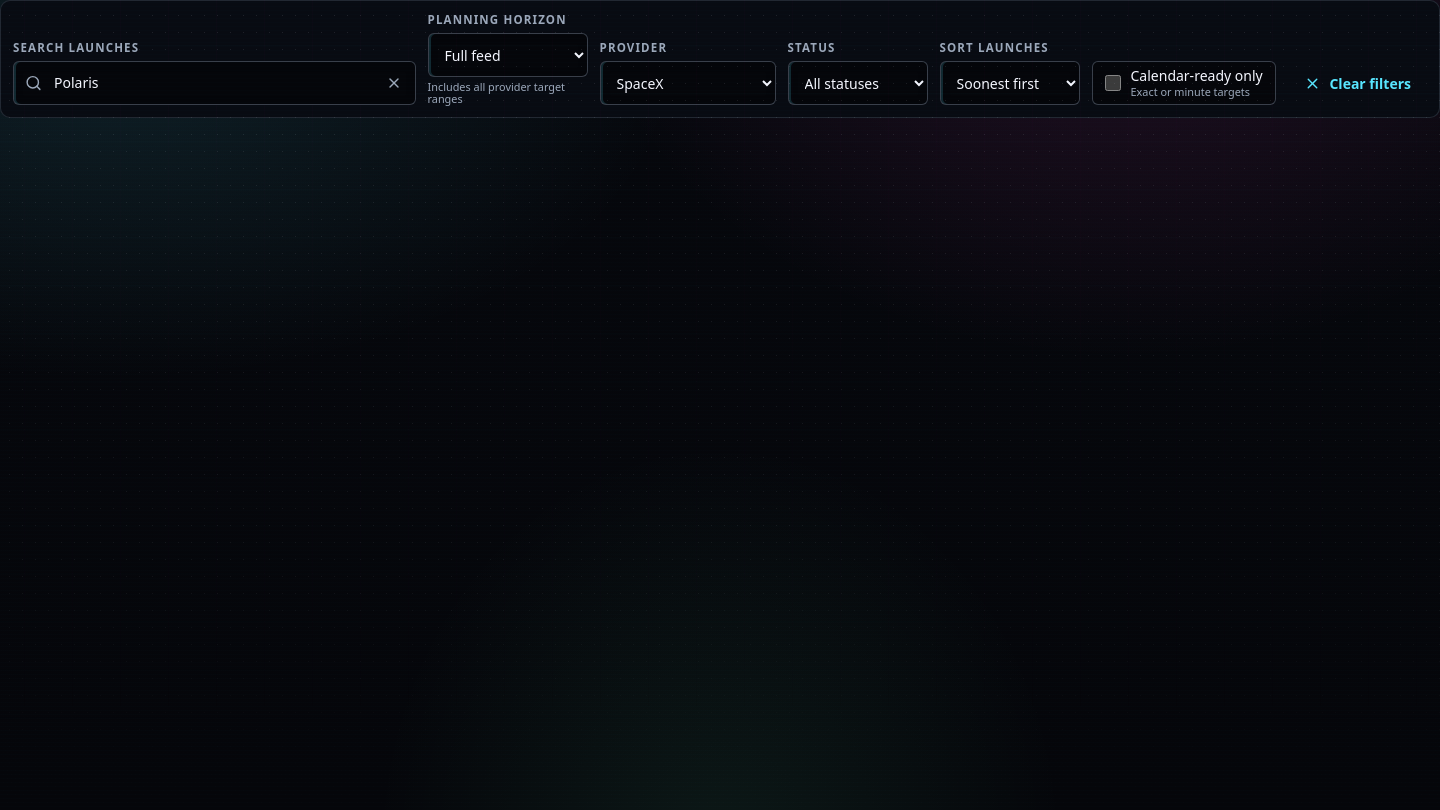
Test case: FilterBar › clears filters restored from navigation back to product defaults
Expected: the search field labelled "Search launches" holds "Polaris", [13, 61, 416, 105]
Click the button with aria-label "Clear launch filters" at (1357, 83), box [1288, 61, 1427, 105]
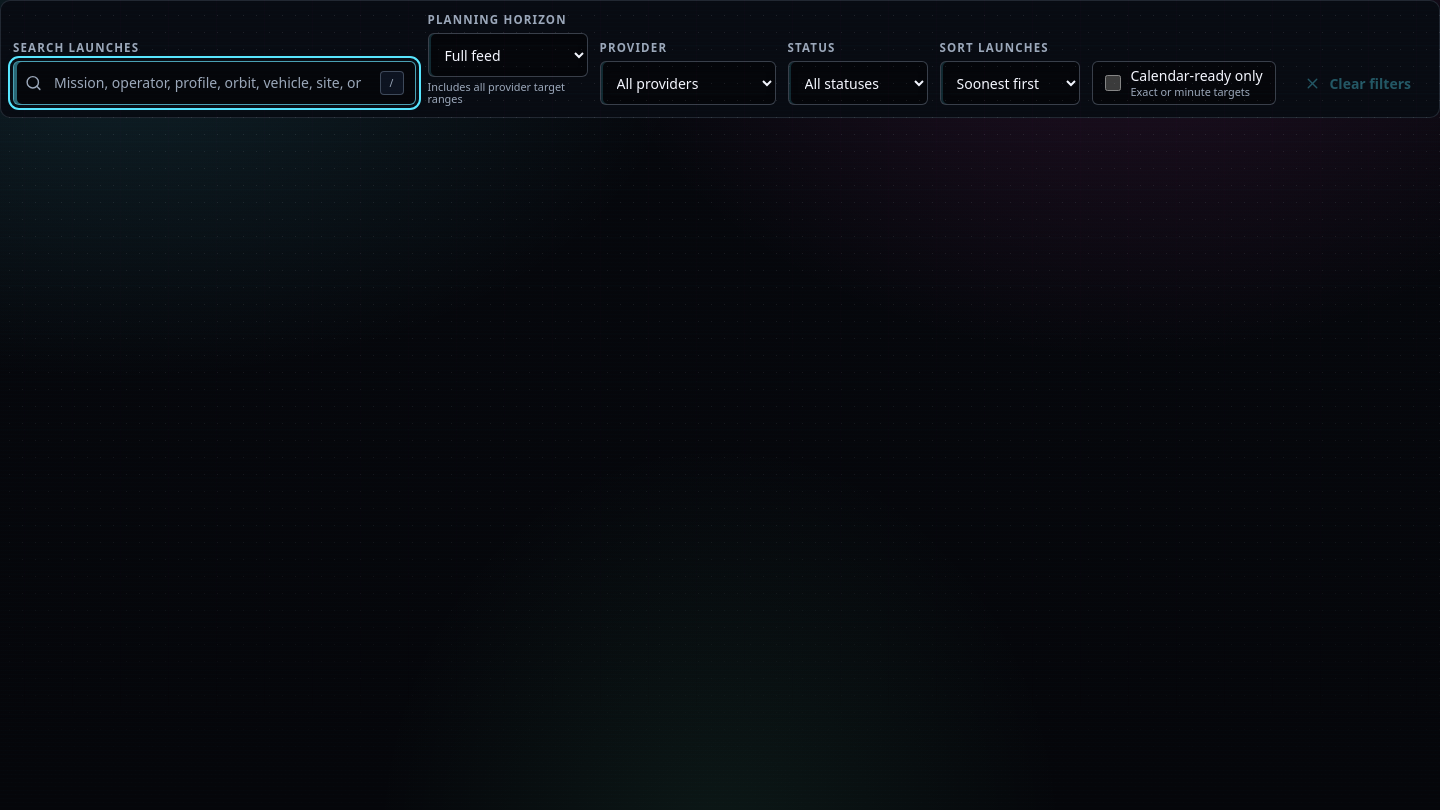
Expected: the search field labelled "Search launches" is empty, [13, 61, 416, 105]
Expected: the dropdown labelled "Provider" shows "All providers", [600, 61, 776, 105]
